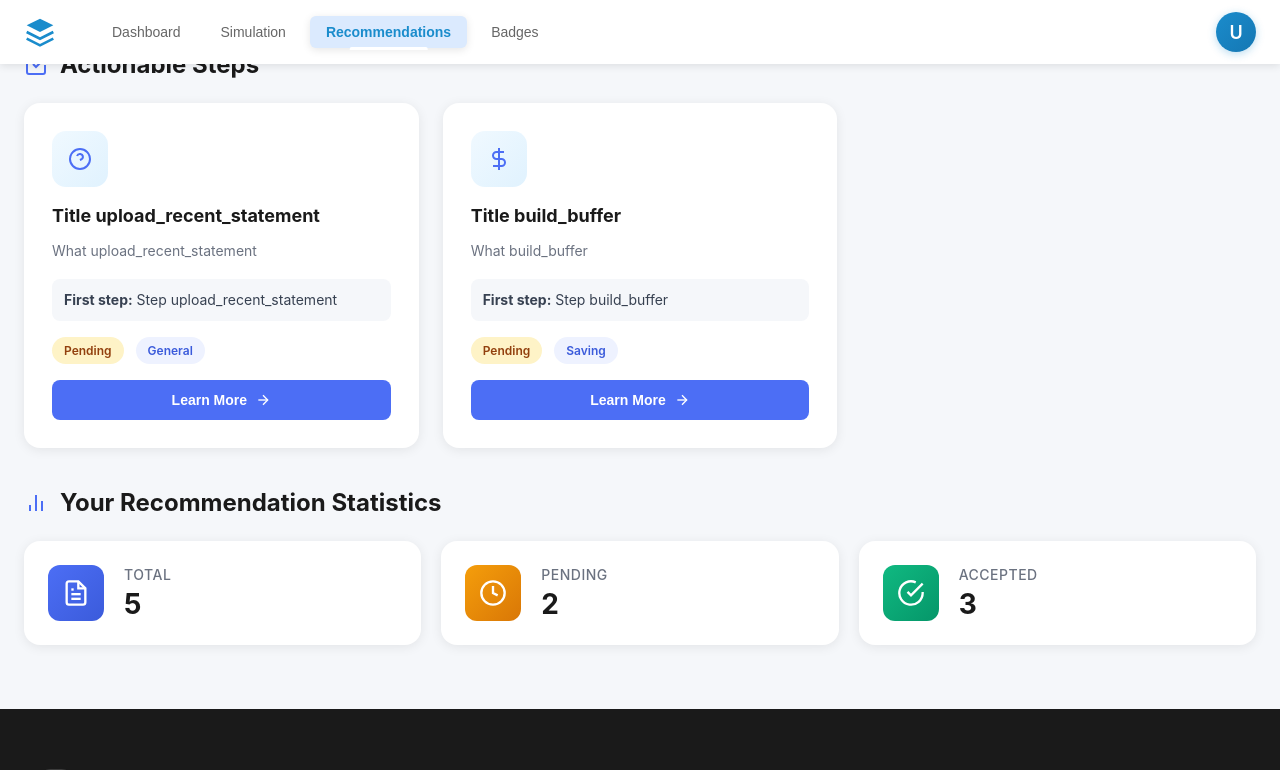
Test case: with recommendations › opens a detail view with what, first step, why and the learning note
The image size is (1280, 770).
(page scrolled)
Check: the heading "Title build_buffer" is shown, box 471,205 -> 621,226
Click the button "Learn More" below "Step build_buffer" at coordinates (640, 400), box 471,380 -> 809,420
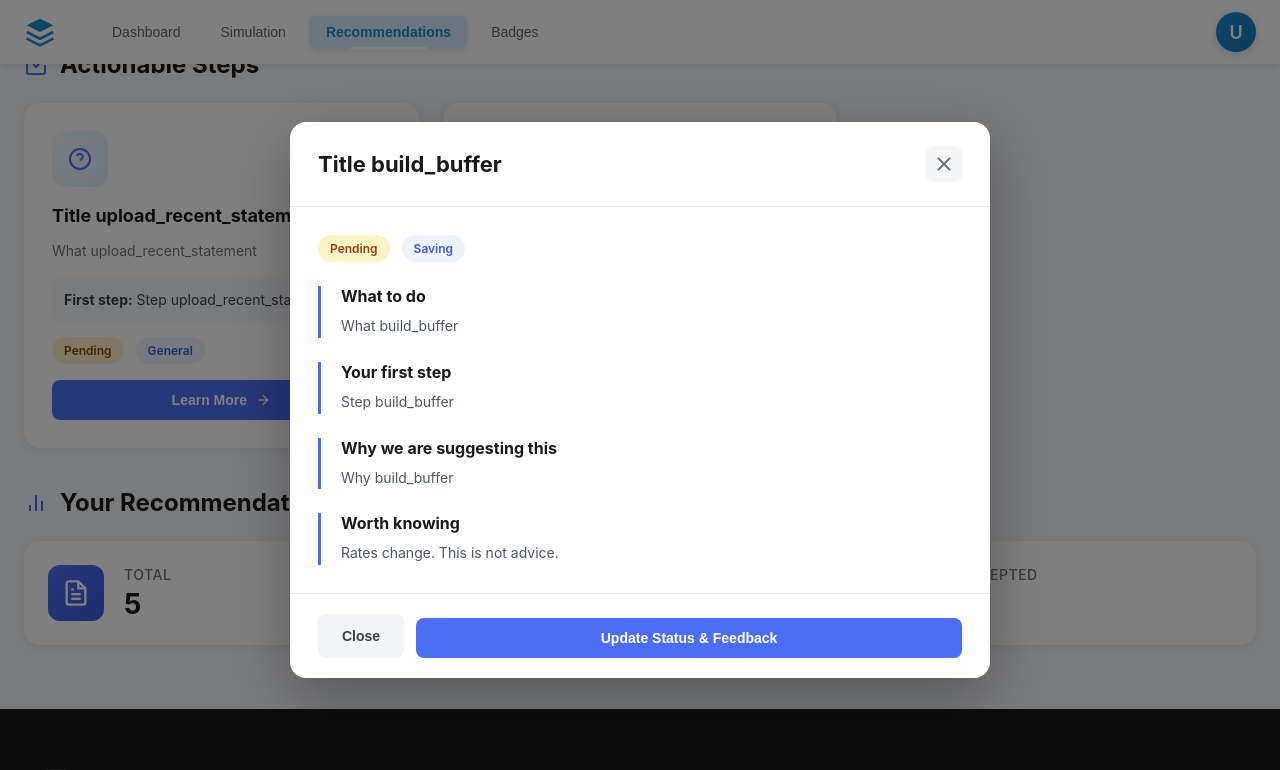
Check: the text "What build_buffer" is shown, box 341,317 -> 458,334
Check: the text "Step build_buffer" is shown, box 341,393 -> 454,410
Check: the text "Why build_buffer" is shown, box 341,468 -> 453,486
